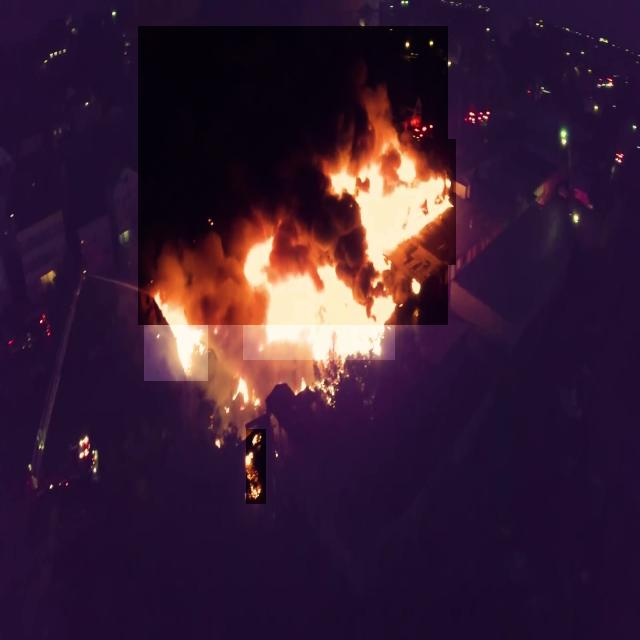Fire: (243, 236, 395, 360), (330, 139, 456, 265), (144, 286, 208, 381), (246, 429, 266, 504), (235, 370, 260, 411)
Smoke: (138, 26, 448, 325)
